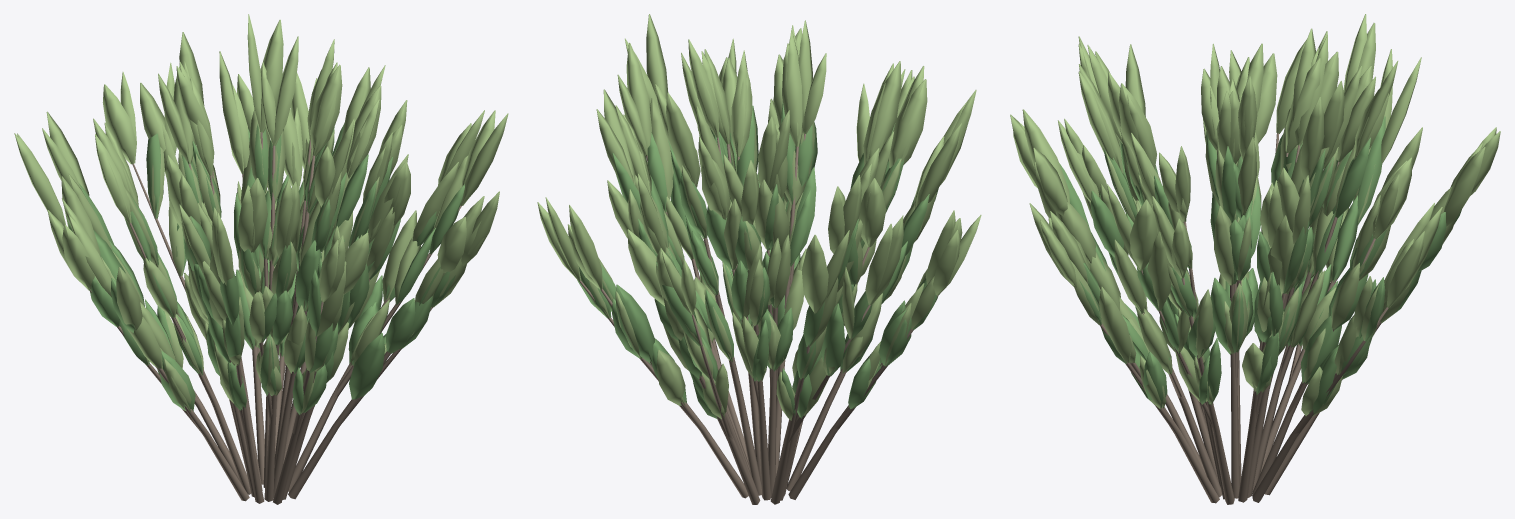
Rendered from chirca_bush_0.glb.
The picture shows the model from 3 angles, left to right: view 1: azimuth 30°, elevation 25°; view 2: azimuth 150°, elevation 25°; view 3: azimuth 270°, elevation 25°; orthographic projection. The views are drawn at different scales.
Visible parts, largest first — view 1: ChircaFoliageTip, ChircaFoliageDeep, ChircaFoliageMid, ChircaStems; view 2: ChircaFoliageTip, ChircaFoliageDeep, ChircaFoliageMid, ChircaStems; view 3: ChircaFoliageTip, ChircaFoliageMid, ChircaFoliageDeep, ChircaStems.
Boxes of the visible parts, x1,y1,x2,y2 form: ChircaFoliageTip: (14, 14, 508, 302); ChircaFoliageDeep: (66, 123, 464, 415); ChircaFoliageMid: (61, 109, 467, 413); ChircaStems: (90, 132, 461, 504); ChircaFoliageTip: (537, 14, 981, 315); ChircaFoliageDeep: (577, 101, 938, 418); ChircaFoliageMid: (589, 98, 936, 420); ChircaStems: (579, 133, 937, 504); ChircaFoliageTip: (1010, 14, 1500, 307); ChircaFoliageMid: (1034, 108, 1455, 416); ChircaFoliageDeep: (1059, 116, 1461, 413); ChircaStems: (1100, 133, 1388, 504).
Bounding box in the file's own units: 2.07 × 2.19 × 2.13.
